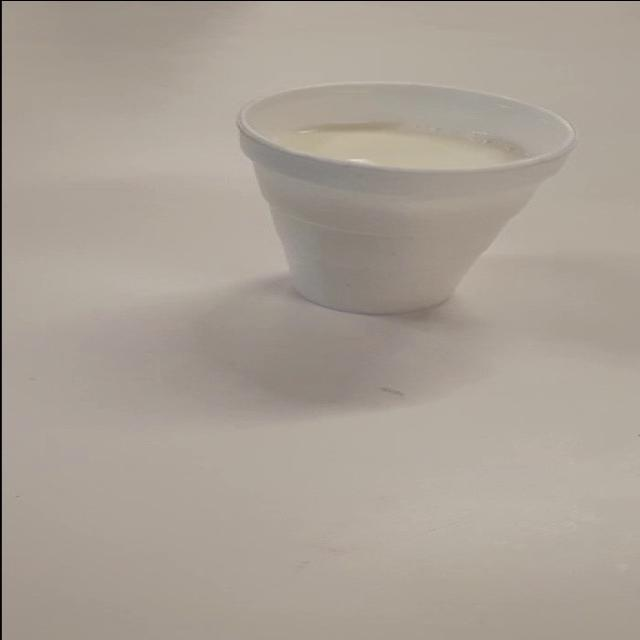Milk: (219, 72, 637, 330)
